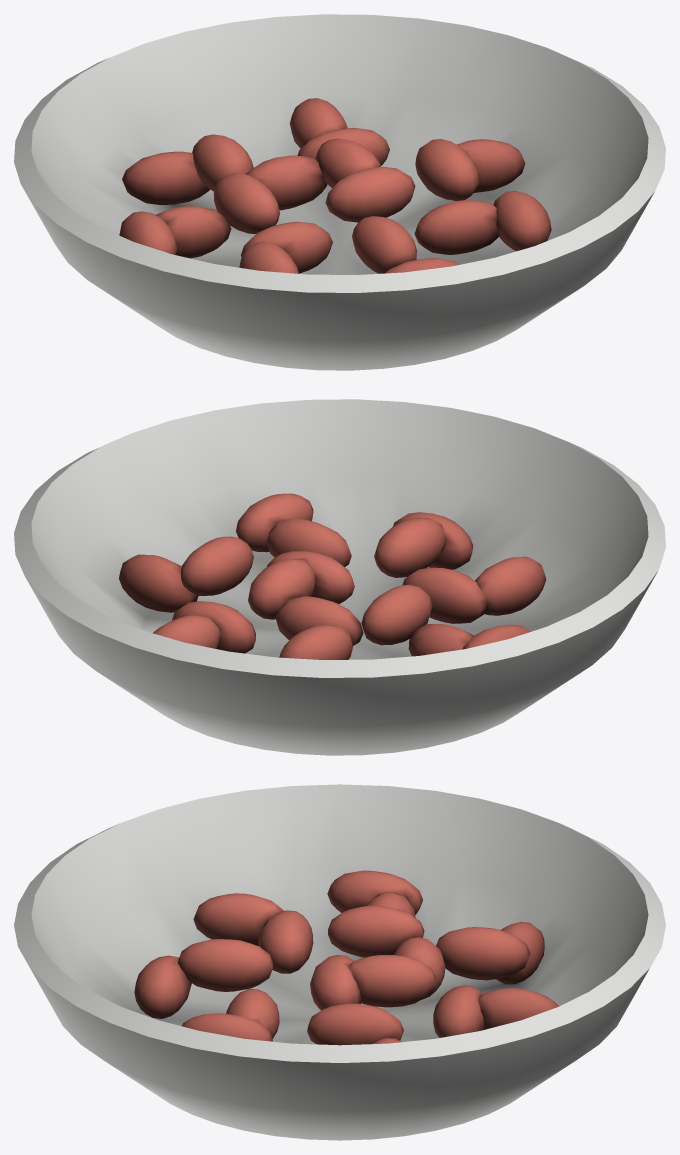
The model's file is food_bean.glb.
3 renders of one model, top to bottom at view 1: azimuth 30°, elevation 25°; view 2: azimuth 150°, elevation 25°; view 3: azimuth 270°, elevation 25°, orthographic.
Parts seen in each view (by area): view 1: PART; view 2: PART; view 3: PART.
Part boxes in pixels (x1,y1,x2,y2): PART: (14,14,665,370); PART: (14,399,665,755); PART: (14,784,665,1140).
Bounding box in the file's own units: 0.1613 × 0.0374 × 0.1613.
